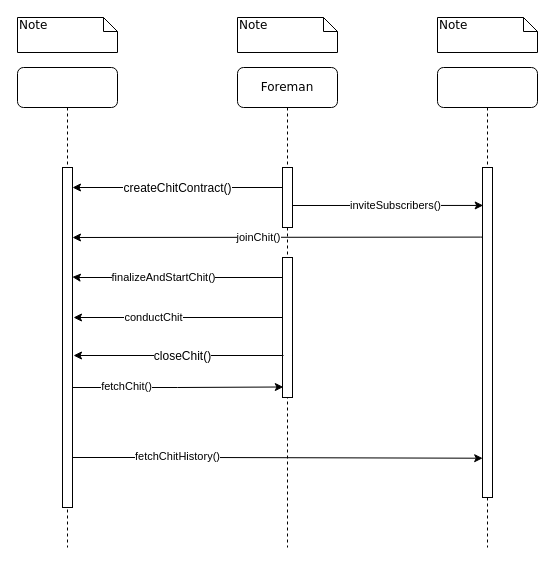
This 555x565 diagram has some shape labels left out. The box of each missing label's shape, as (x1, y1, x2, y2) in pixels:
Chit Contract: (16, 66, 118, 548)
Subscriber: (436, 66, 538, 548)
